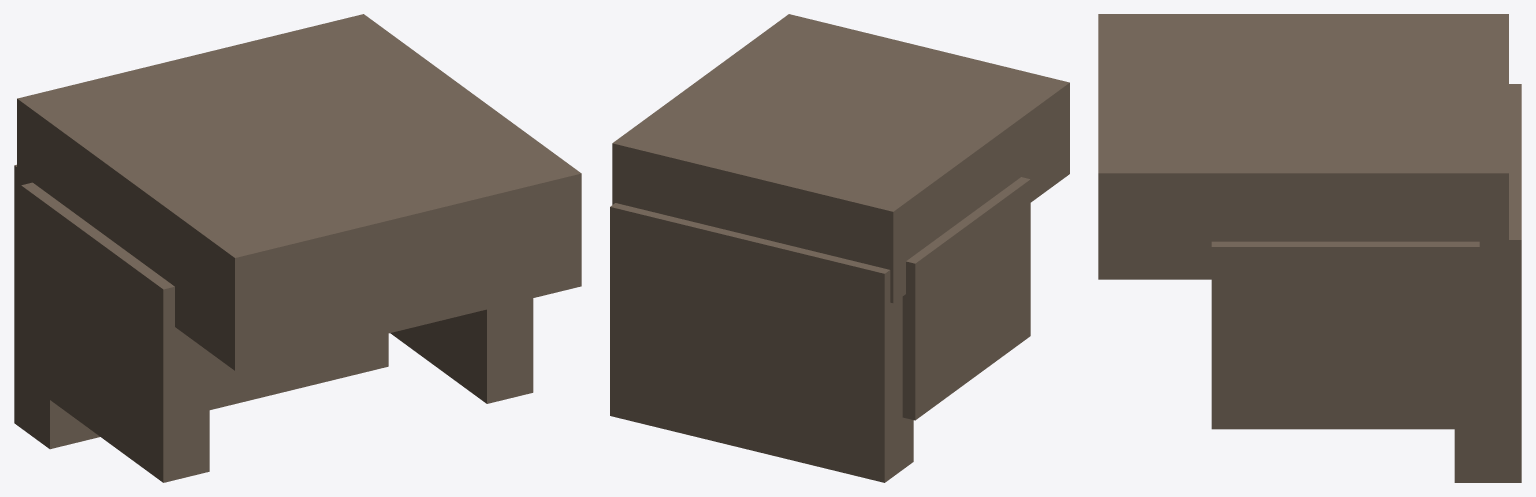
File: hair_short_crop.glb
The picture shows the model from 3 angles, left to right: view 1: azimuth 30°, elevation 25°; view 2: azimuth 150°, elevation 25°; view 3: azimuth 270°, elevation 25°; orthographic projection. The views are drawn at different scales.
Visible parts, largest first — view 1: hair_short_crop; view 2: hair_short_crop; view 3: hair_short_crop.
Part boxes in pixels (<box>): hair_short_crop: <box>14,14,581,482</box>; hair_short_crop: <box>610,14,1069,482</box>; hair_short_crop: <box>1098,14,1521,482</box>.
Bounding box in the file's own units: 0.24 × 0.205 × 0.2525.
